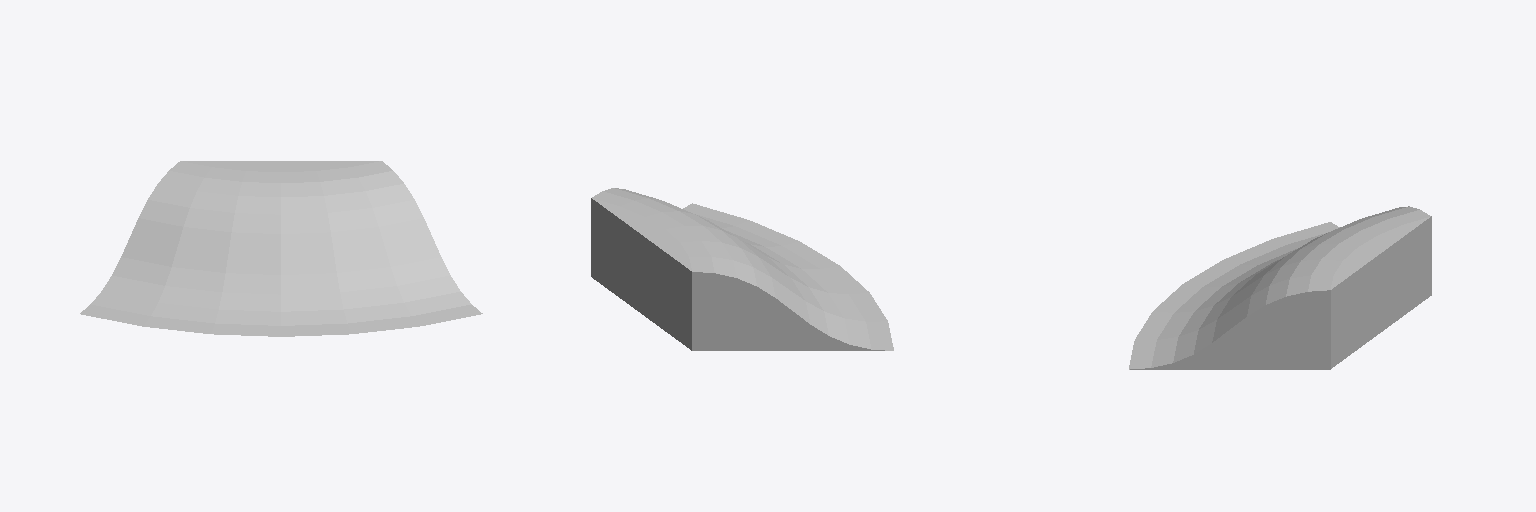
Rendered from Terrain_Grass_Hill_Curve_Outer_Gentle.obj.
3 renders of one model, left to right at view 1: azimuth 30°, elevation 25°; view 2: azimuth 150°, elevation 25°; view 3: azimuth 270°, elevation 25°, orthographic.
Visible parts, largest first — view 1: object1; view 2: object1; view 3: object1.
Boxes of the visible parts, <box> form: object1: <box>80,161,482,336</box>; object1: <box>591,188,893,350</box>; object1: <box>1129,206,1431,369</box>.
Size of the model in its own units: 1 by 0.25 by 0.866.